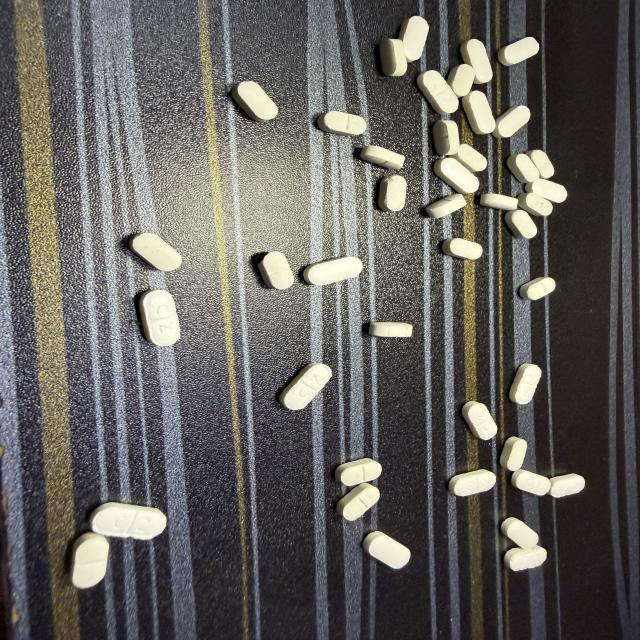pill: (90, 503, 166, 539), (280, 363, 332, 410), (140, 290, 180, 345), (71, 533, 108, 588), (129, 233, 182, 271), (232, 81, 278, 121), (418, 70, 458, 114), (363, 531, 410, 568), (303, 257, 362, 285), (434, 157, 479, 193), (337, 483, 379, 520), (462, 91, 495, 134), (461, 39, 492, 83), (399, 16, 429, 61), (258, 251, 293, 289), (462, 401, 497, 439), (335, 458, 382, 486), (510, 364, 541, 404), (318, 111, 366, 136), (449, 470, 495, 496), (498, 37, 539, 66), (493, 106, 530, 138), (501, 517, 538, 548), (360, 146, 405, 169), (511, 469, 550, 495), (432, 120, 460, 156), (504, 546, 546, 570), (380, 39, 407, 76), (526, 179, 567, 203), (452, 144, 487, 172), (379, 175, 406, 211), (426, 194, 466, 218), (507, 154, 539, 183), (447, 64, 475, 97), (500, 437, 527, 471), (505, 210, 537, 238), (443, 238, 482, 260), (519, 277, 555, 300), (549, 474, 584, 497), (518, 193, 552, 216), (527, 150, 554, 178), (369, 322, 412, 337), (480, 194, 518, 210)
